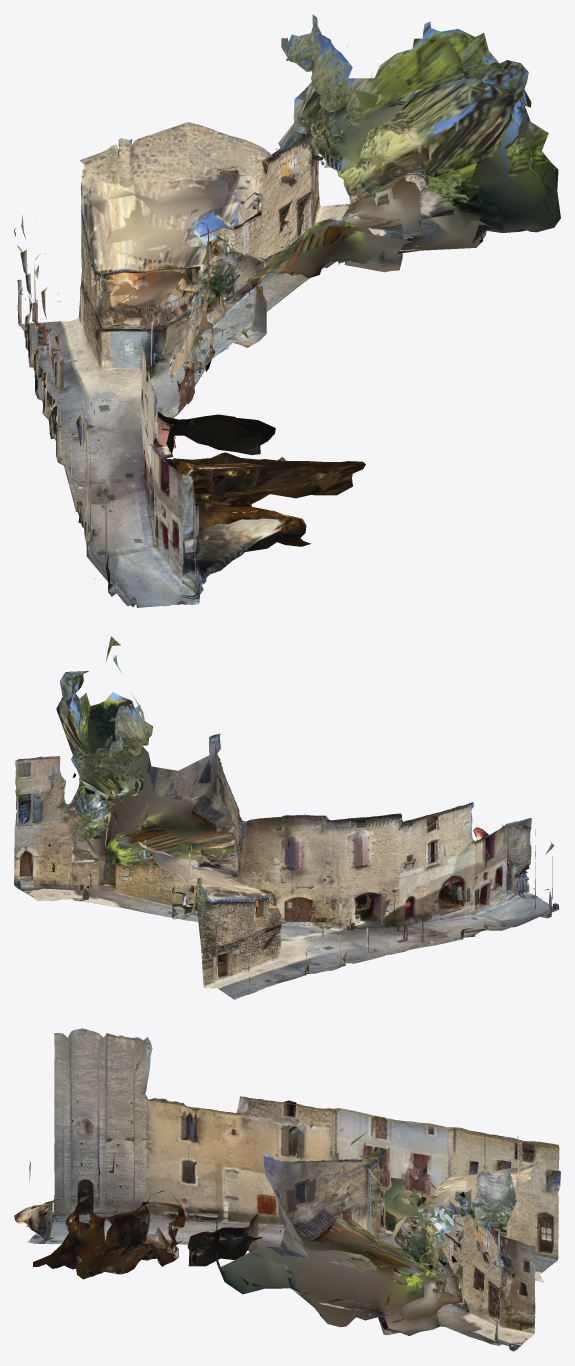
Rendered from medium.glb.
3 renders of one model, top to bottom at view 1: azimuth 30°, elevation 25°; view 2: azimuth 150°, elevation 25°; view 3: azimuth 270°, elevation 25°, orthographic. The views are drawn at different scales.
Visible parts, largest first — view 1: medium.024; view 2: medium.024; view 3: medium.024.
Part boxes in pixels (x1,y1,x2,y2): medium.024: [14, 14, 560, 607]; medium.024: [14, 636, 559, 999]; medium.024: [14, 1028, 560, 1351].
Size of the model in its own units: 31.62 by 19.54 by 29.8.
1 material, 1 textured.
